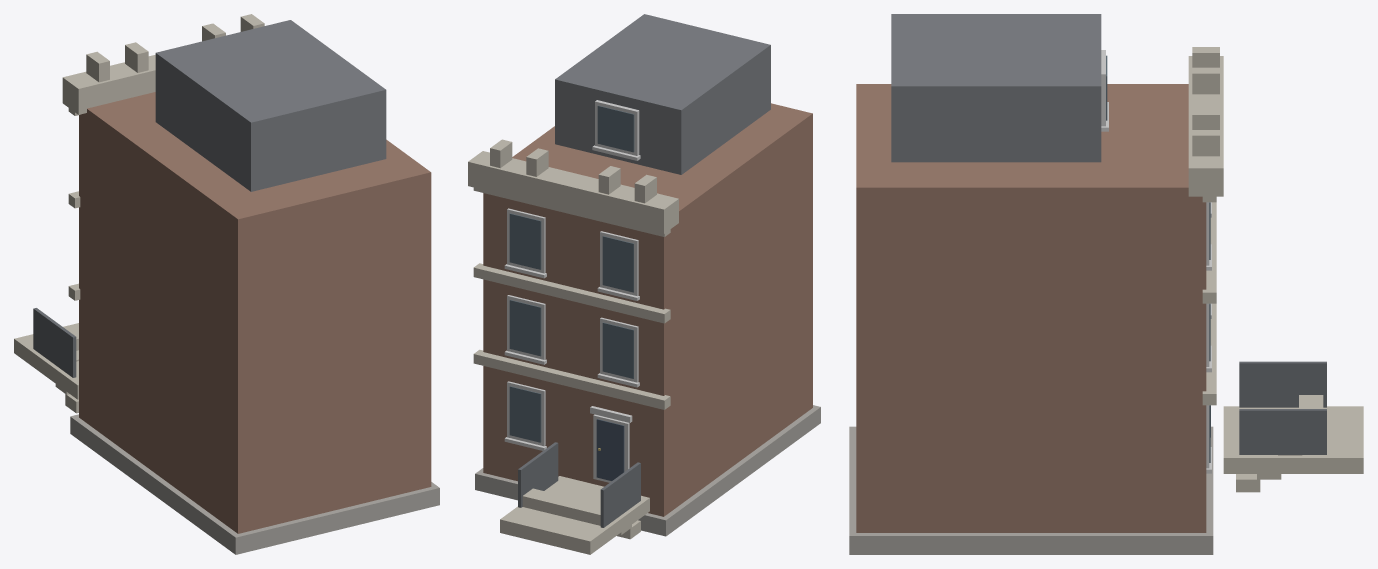
The model's file is townhouse_brownstone.glb.
The picture shows the model from 3 angles, left to right: view 1: azimuth 30°, elevation 25°; view 2: azimuth 150°, elevation 25°; view 3: azimuth 270°, elevation 25°; orthographic projection. The views are drawn at different scales.
Visible parts, largest first — view 1: Mesh; view 2: Mesh; view 3: Mesh.
Boxes of the visible parts, x1=… form: Mesh: x1=14, y1=14, x2=439, y2=554; Mesh: x1=468, y1=14, x2=820, y2=554; Mesh: x1=849, y1=14, x2=1363, y2=554.
Size of the model in its own units: 7.6 by 14.2 by 14.7.
